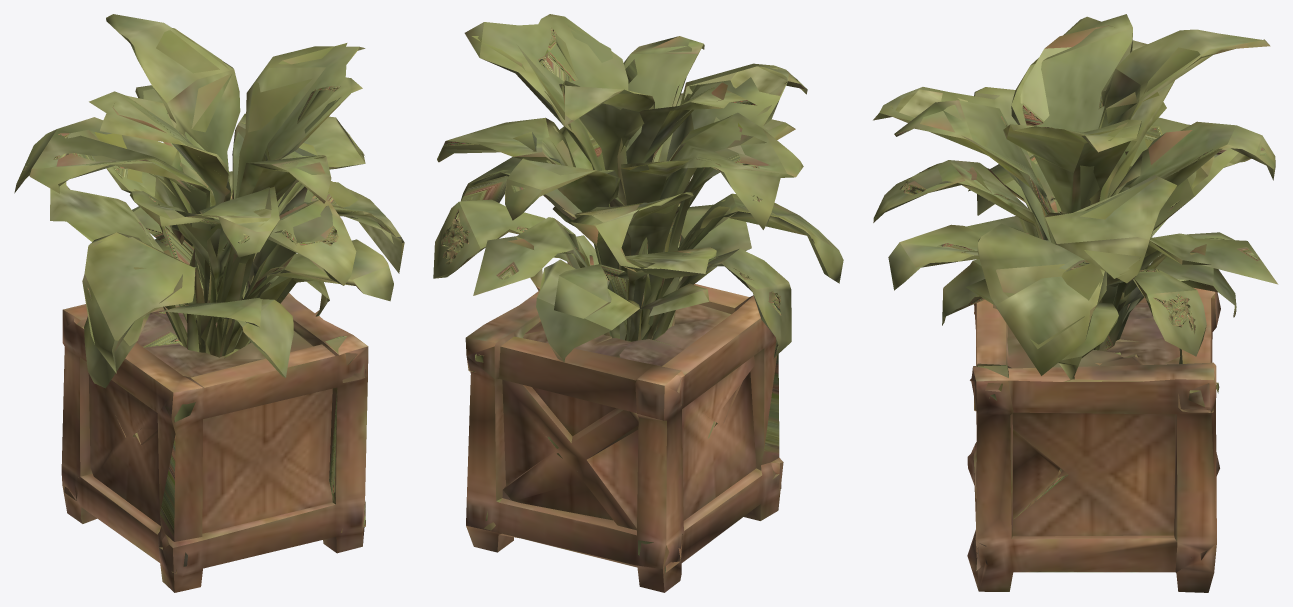
3 renders of one model, left to right at view 1: azimuth 30°, elevation 25°; view 2: azimuth 150°, elevation 25°; view 3: azimuth 270°, elevation 25°, orthographic. The views are drawn at different scales.
Visible parts, largest first — view 1: geometry_0; view 2: geometry_0; view 3: geometry_0.
Part boxes in pixels (x1=…): geometry_0: x1=14, y1=14, x2=404, y2=592; geometry_0: x1=433, y1=14, x2=843, y2=592; geometry_0: x1=873, y1=14, x2=1278, y2=592.
Size of the model in its own units: 0.6436 by 0.8478 by 0.6272.
Materials: 1 (1 with a texture image).
